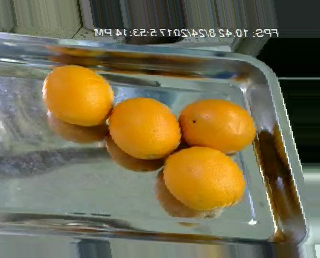Orange: (163, 145, 245, 209), (108, 97, 182, 160), (41, 65, 115, 126), (179, 99, 257, 154)
